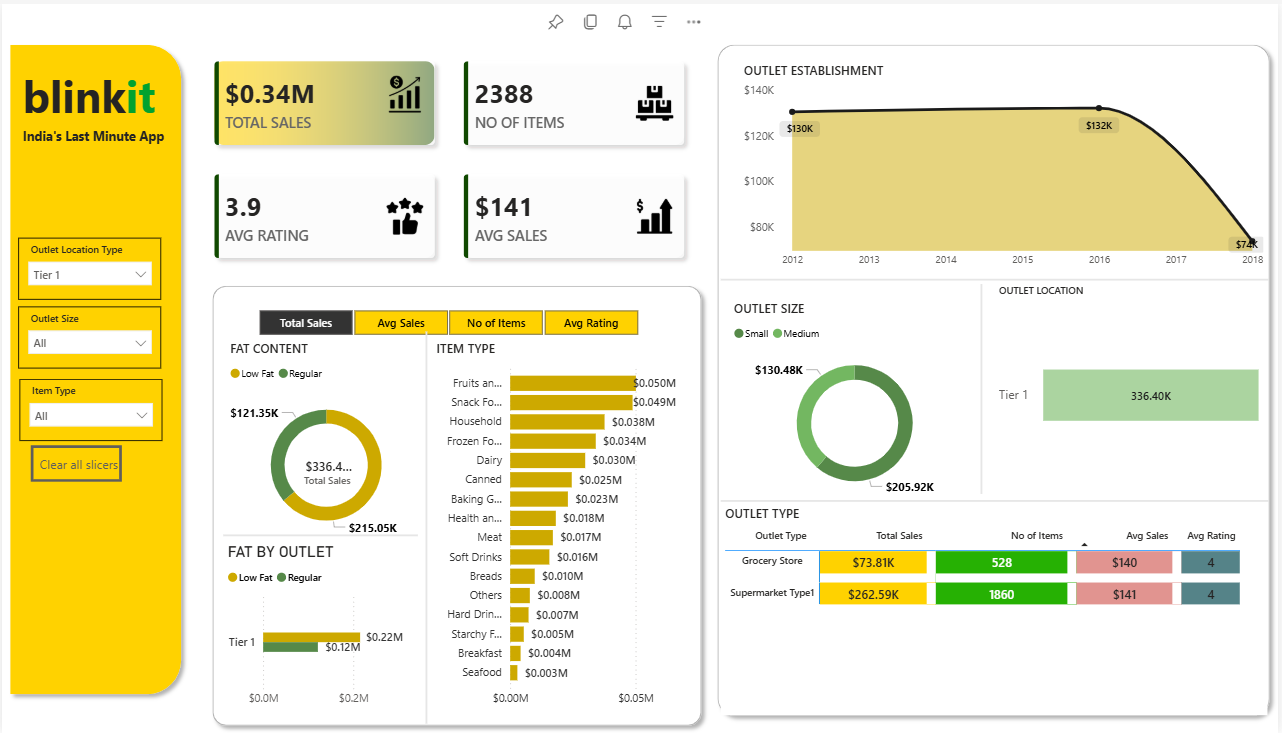

What the dashboard file says about the page in this screenshot:
{"tool":"powerbi","page":{"name":"Page 1","canvas":[1400,800],"ordinal":0},"visuals":[{"type":"shape","box":[0,36,205.6,730.9],"z":0},{"type":"textbox","box":[253.7,661.9,205.6,105.1],"z":1000},{"type":"textbox","box":[18,63,171.1,82.5],"z":2000},{"type":"textbox","box":[18,130.6,171.1,37.5],"z":3000},{"type":"cardVisual","fields":{"Data":["BlinkIT Grocery Data.Total Sales","BlinkIT Grocery Data.No of Items","BlinkIT Grocery Data.Avg Rating","BlinkIT Grocery Data.Avg Sales"]},"box":[205.4,35.9,570.6,270.6],"z":4000},{"type":"shape","box":[221.7,299.9,554.3,500.5],"z":5000},{"type":"donutChart","title":"FAT CONTENT","fields":{"Y":["BlinkIT Grocery Data.Total Sales"],"Category":["BlinkIT Grocery Data.Item Fat Content"]},"box":[245.8,369.4,220.8,229.2],"z":6000},{"type":"cardVisual","fields":{"Data":["BlinkIT Grocery Data.Total Sales"]},"box":[300,479.2,113.9,70.8],"z":7000},{"type":"slicer","fields":{"Values":["METRICS.METRICS"]},"box":[256.9,329.2,465.3,40.3],"z":8000},{"type":"clusteredBarChart","title":"FAT BY OUTLET","fields":{"Y":["BlinkIT Grocery Data.Total Sales"],"Category":["BlinkIT Grocery Data.Outlet Location Type"],"Series":["BlinkIT Grocery Data.Item Fat Content"]},"box":[243.1,591.7,219.4,188.9],"z":9000},{"type":"shape","box":[243.1,575,213.9,16.7],"z":10000},{"type":"shape","box":[459.7,359.7,12.5,430.6],"z":11000},{"type":"barChart","title":"ITEM TYPE","fields":{"Y":["BlinkIT Grocery Data.Total Sales"],"Category":["BlinkIT Grocery Data.Item Type"]},"box":[472.2,369.4,293.1,411.1],"z":12000},{"type":"shape","box":[776.4,36.1,623.6,754.2],"z":13000},{"type":"lineChart","title":"OUTLET ESTABLISHMENT","fields":{"Category":["BlinkIT Grocery Data.Outlet Establishment Year"],"Y":["BlinkIT Grocery Data.Total Sales"]},"box":[809.7,62.5,580,235],"z":14000},{"type":"donutChart","title":"OUTLET SIZE","fields":{"Y":["BlinkIT Grocery Data.Total Sales"],"Category":["BlinkIT Grocery Data.Outlet Size"]},"box":[798.6,325,275,225],"z":15000},{"type":"shape","box":[788.9,297.2,601.4,9.7],"z":16000},{"type":"funnel","title":"OUTLET LOCATION","fields":{"Y":["Sum(BlinkIT Grocery Data.Sales)"],"Category":["BlinkIT Grocery Data.Outlet Location Type"]},"box":[1088.9,306.9,300,230],"z":17000},{"type":"shape","box":[1068.1,306.9,12.5,230.6],"z":18000},{"type":"shape","box":[788.9,540.3,601.4,9.7],"z":19000},{"type":"pivotTable","title":"OUTLET TYPE","fields":{"Rows":["BlinkIT Grocery Data.Outlet Type"],"Values":["BlinkIT Grocery Data.Total Sales","BlinkIT Grocery Data.No of Items","BlinkIT Grocery Data.Avg Sales","BlinkIT Grocery Data.Avg Rating"]},"box":[788.9,550,600,230.6],"z":20000},{"type":"slicer","fields":{"Values":["BlinkIT Grocery Data.Outlet Location Type"]},"box":[18.1,256.9,156.9,68.1],"z":21000},{"type":"slicer","fields":{"Values":["BlinkIT Grocery Data.Item Type"]},"box":[19.4,411.1,156.9,68.1],"z":21001},{"type":"slicer","fields":{"Values":["BlinkIT Grocery Data.Outlet Size"]},"box":[18.1,331.9,156.9,68.1],"z":21002},{"type":"actionButton","box":[31.9,484.7,100,40.3],"z":21003}]}

Visuals, with their boxes on the page's 1400x800 design canvas (x1, y1, x2, y2). These are canvas units, not pixel positions in the 1282x733 screenshot, which may show the page scaled, cropped or inside an application window:
shape: bbox=(0, 36, 206, 767)
textbox: bbox=(254, 662, 459, 767)
textbox: bbox=(18, 63, 189, 146)
textbox: bbox=(18, 131, 189, 168)
cardVisual - BlinkIT Grocery Data.Total Sales x BlinkIT Grocery Data.No of Items: bbox=(205, 36, 776, 306)
shape: bbox=(222, 300, 776, 800)
"FAT CONTENT" donutChart: bbox=(246, 369, 467, 599)
cardVisual - BlinkIT Grocery Data.Total Sales: bbox=(300, 479, 414, 550)
slicer - METRICS.METRICS: bbox=(257, 329, 722, 370)
"FAT BY OUTLET" clusteredBarChart: bbox=(243, 592, 462, 781)
shape: bbox=(243, 575, 457, 592)
shape: bbox=(460, 360, 472, 790)
"ITEM TYPE" barChart: bbox=(472, 369, 765, 780)
shape: bbox=(776, 36, 1400, 790)
"OUTLET ESTABLISHMENT" lineChart: bbox=(810, 62, 1390, 298)
"OUTLET SIZE" donutChart: bbox=(799, 325, 1074, 550)
shape: bbox=(789, 297, 1390, 307)
"OUTLET LOCATION" funnel: bbox=(1089, 307, 1389, 537)
shape: bbox=(1068, 307, 1081, 538)
shape: bbox=(789, 540, 1390, 550)
"OUTLET TYPE" pivotTable: bbox=(789, 550, 1389, 781)
slicer - BlinkIT Grocery Data.Outlet Location Type: bbox=(18, 257, 175, 325)
slicer - BlinkIT Grocery Data.Item Type: bbox=(19, 411, 176, 479)
slicer - BlinkIT Grocery Data.Outlet Size: bbox=(18, 332, 175, 400)
actionButton: bbox=(32, 485, 132, 525)
